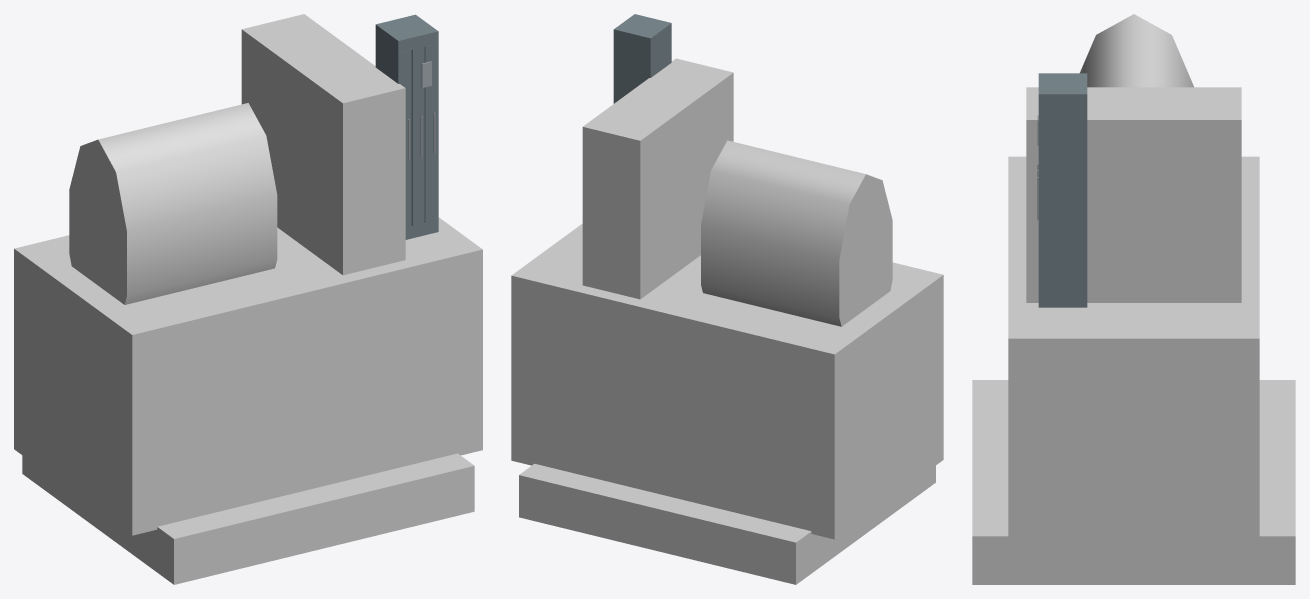
3 views of the same model, side by side, from view 1: azimuth 30°, elevation 25°; view 2: azimuth 150°, elevation 25°; view 3: azimuth 270°, elevation 25° (orthographic). The views are drawn at different scales.
Visible parts, largest first — view 1: housing_3, ram_4, die_5, base_frame_1, g0.005, g0.003, g0.008, g0.007, g0.010; view 2: housing_3, ram_4, die_5, base_frame_1, g0.009, g0.008, g0.010; view 3: housing_3, die_5, base_frame_1, g0.011, ram_4, g0.008.
Part boxes in pixels (x1,y1,x2,y2): housing_3: (14,217,482,535); ram_4: (69,103,277,304); die_5: (241,14,405,275); base_frame_1: (22,453,474,584); g0.005: (411,47,424,226); g0.003: (424,44,437,223); g0.008: (376,14,437,52); g0.007: (399,50,411,227); g0.010: (377,37,400,83); housing_3: (511,223,943,539); ram_4: (701,140,892,326); die_5: (582,58,733,299); base_frame_1: (519,463,935,584); g0.009: (613,29,651,103); g0.008: (614,14,671,48); g0.010: (652,34,671,76); housing_3: (1008,156,1259,552); die_5: (1026,87,1241,302); base_frame_1: (972,380,1295,584); g0.011: (1038,94,1087,307); ram_4: (1080,14,1193,87); g0.008: (1038,73,1087,94).
Bounding box in the file's own units: 2.4 × 3 × 1.8.
